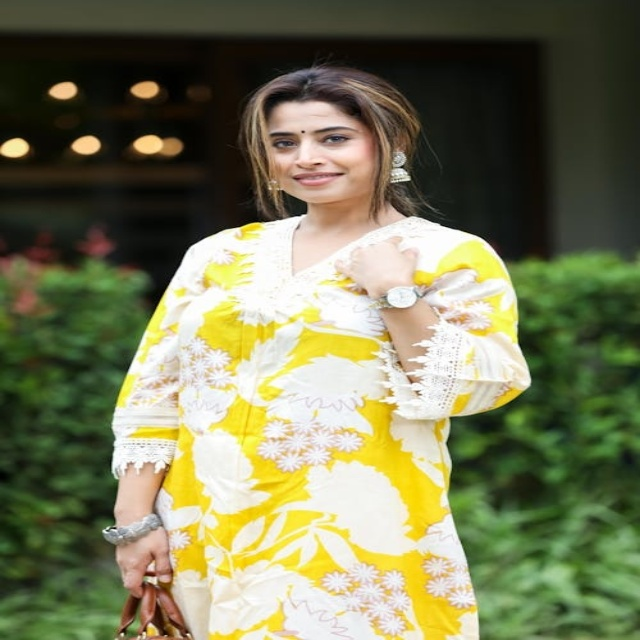Sin_gafas: (260, 125, 360, 152)
Sin_guantes: (97, 498, 179, 596), (326, 230, 425, 299)
Sin_mascara: (285, 164, 357, 195)
